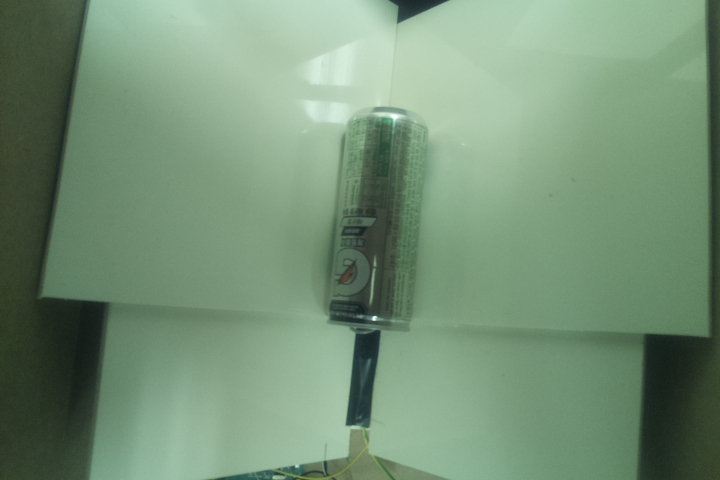can: (325, 104, 432, 340)
